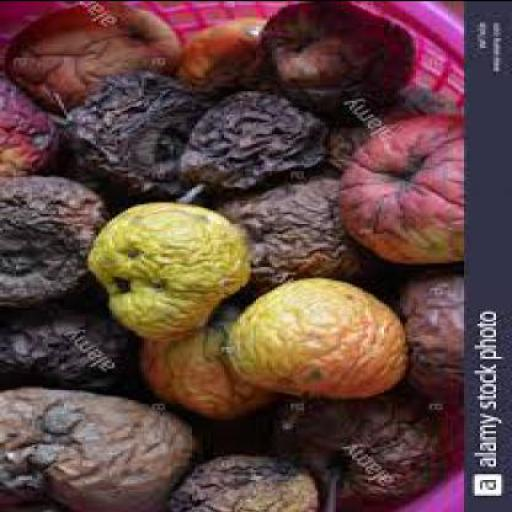biodegradable: (221, 278, 405, 428), (0, 390, 197, 511), (83, 203, 248, 340), (6, 4, 179, 117), (330, 116, 458, 263), (64, 73, 208, 203), (264, 397, 442, 500), (168, 94, 326, 208), (213, 176, 365, 294), (258, 2, 414, 115), (0, 175, 105, 311), (0, 310, 130, 393), (392, 268, 461, 413), (165, 455, 316, 511), (173, 18, 264, 99), (318, 100, 414, 174), (0, 76, 59, 178)
